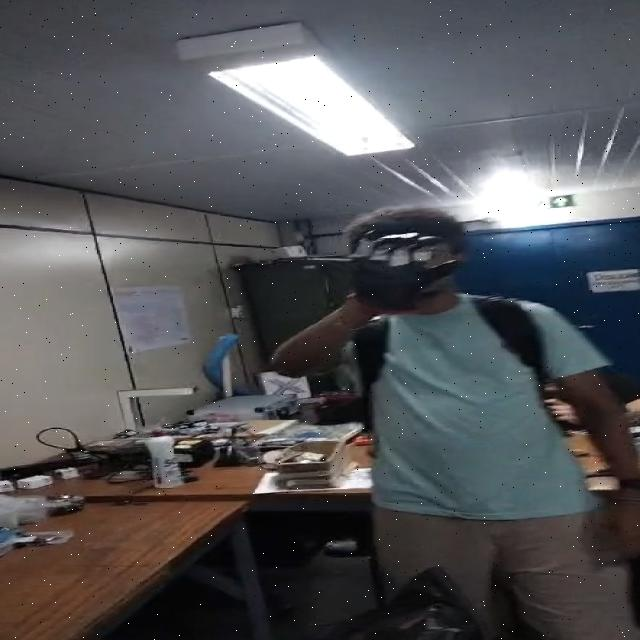Gloves: (342, 228, 461, 311)
